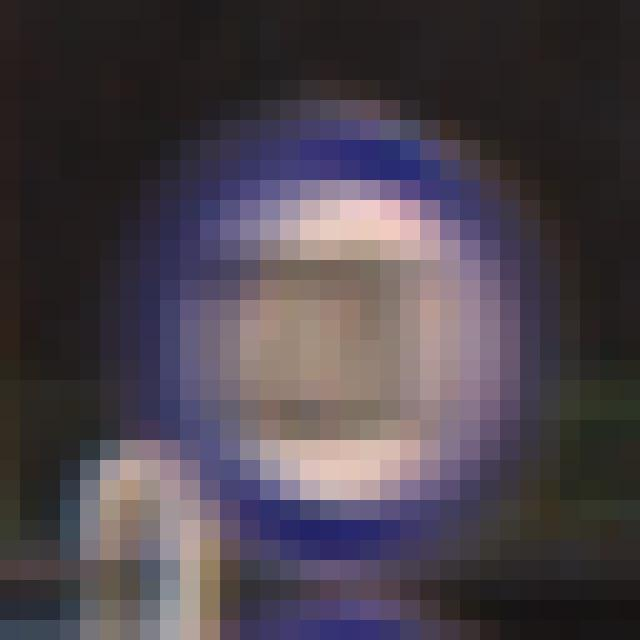SPEED LIMIT 120: (133, 137, 573, 560)
